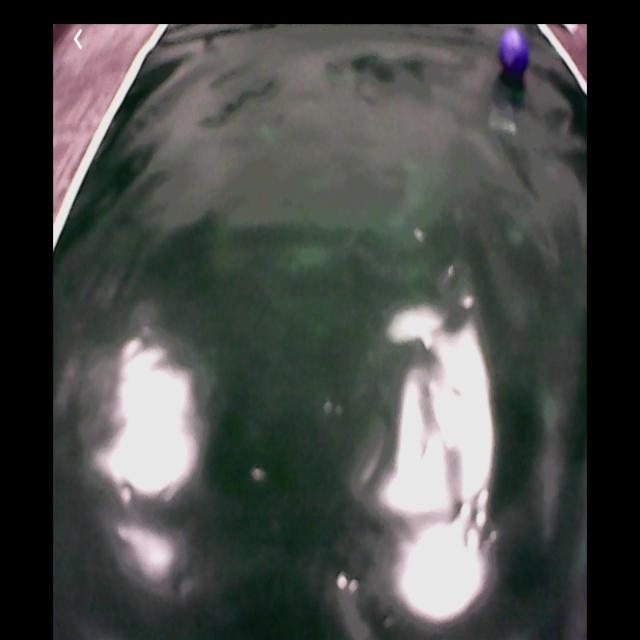ball: (498, 29, 531, 79)
